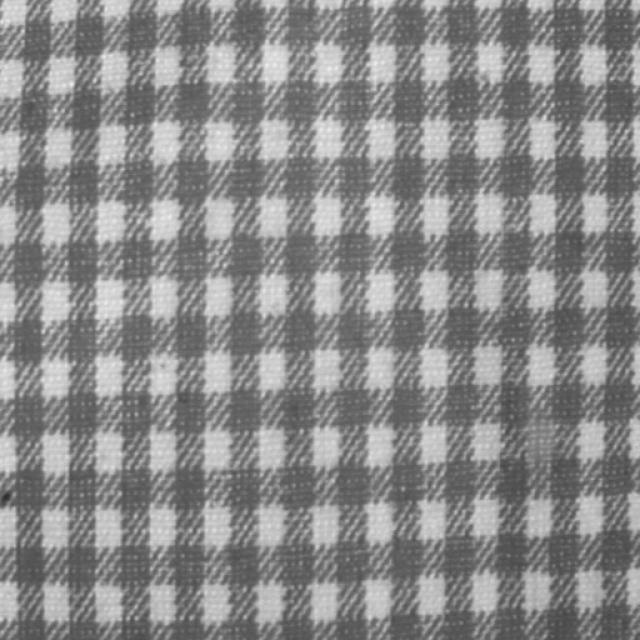Stain-Defect: (528, 410, 555, 471)
